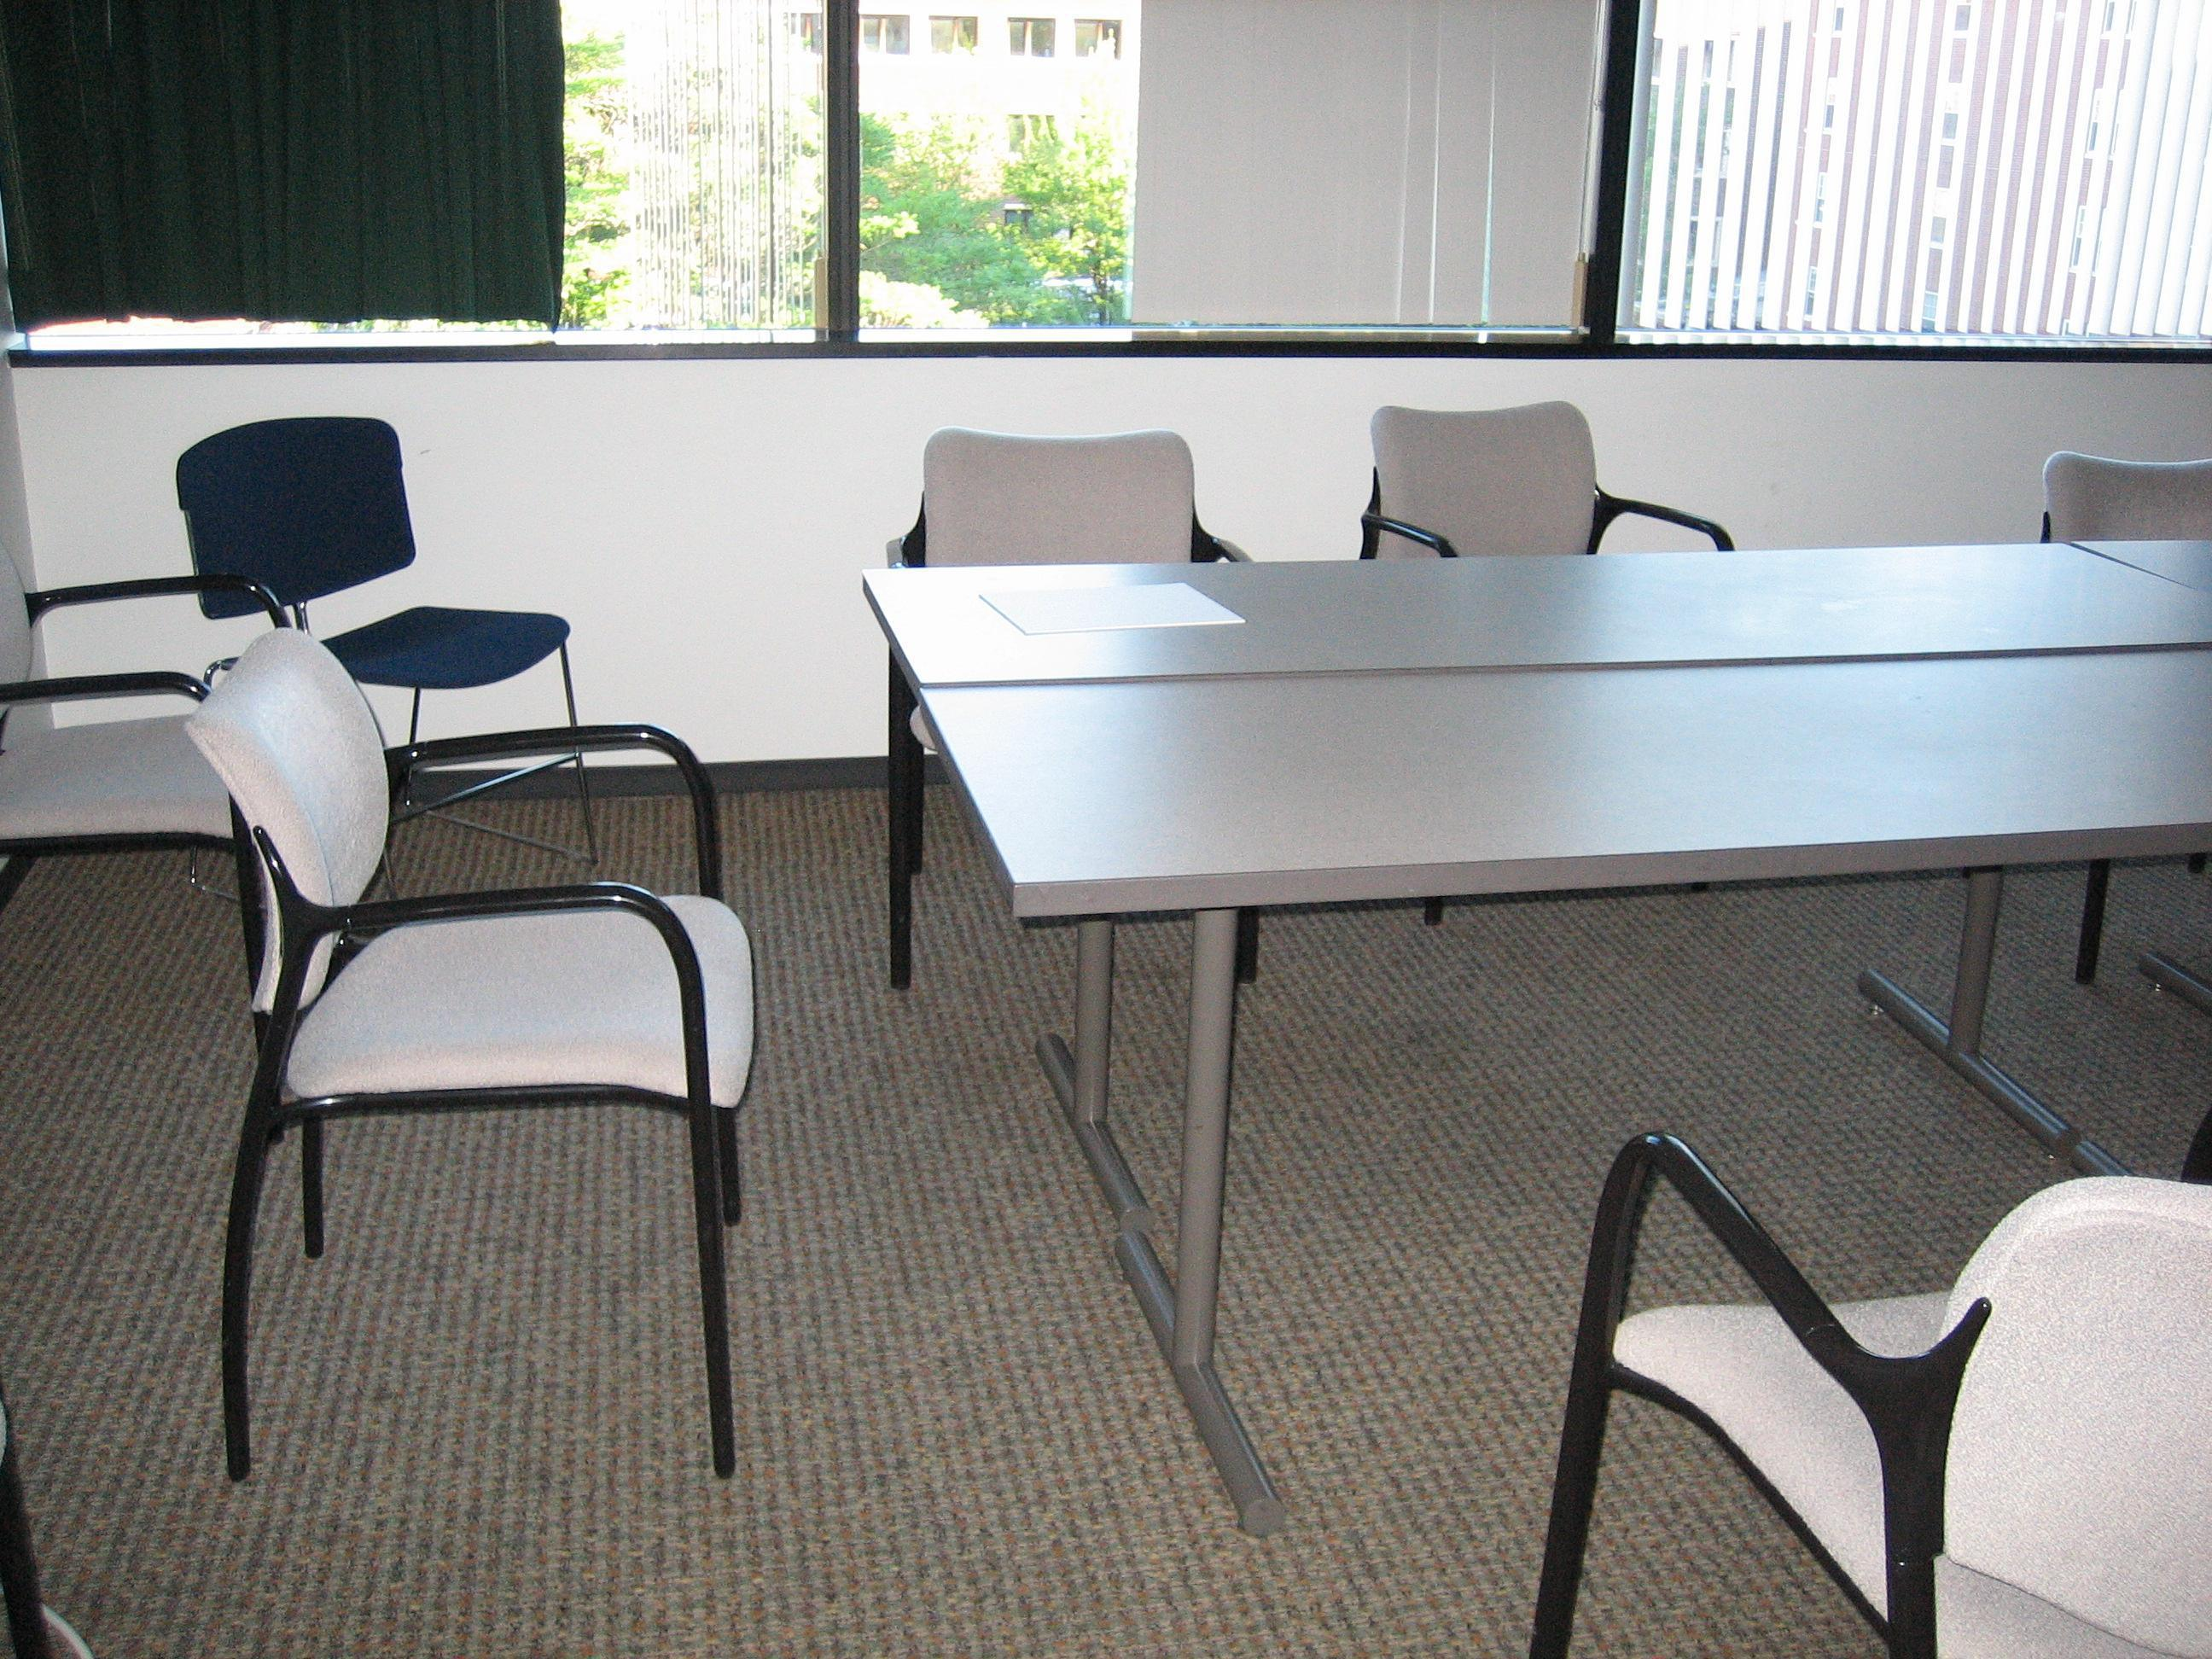Ventana: (14, 3, 852, 350), (852, 12, 1606, 335), (1637, 31, 2212, 347)
